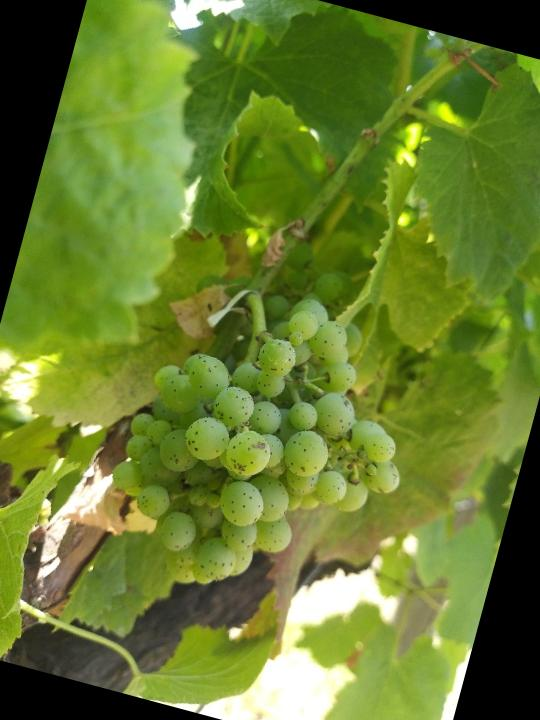grape: (88, 257, 442, 633)
